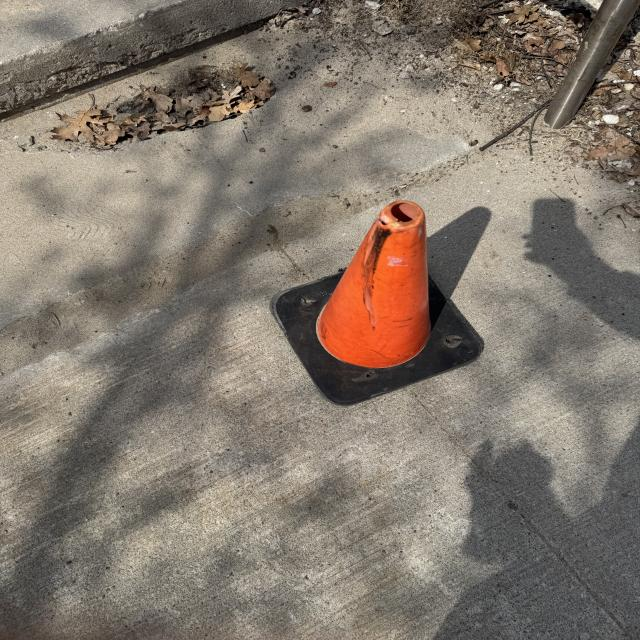Traffic Cone: (274, 200, 485, 406)
